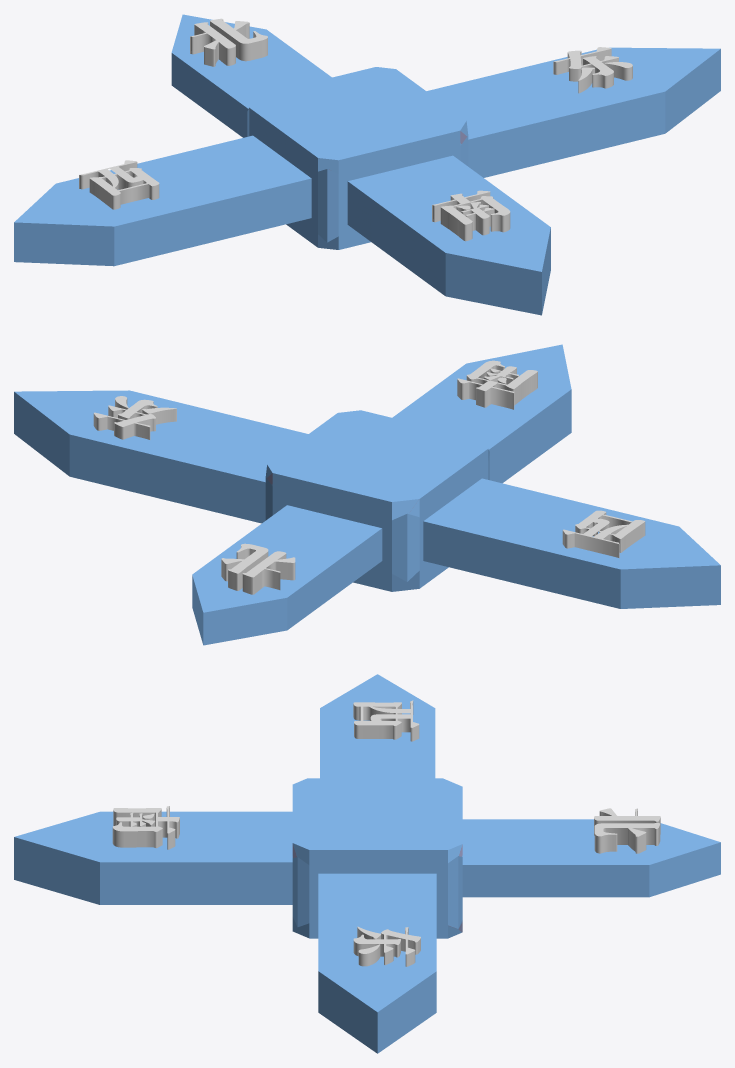
File: dir.glb
3 views of the same model, one above another, from view 1: azimuth 30°, elevation 25°; view 2: azimuth 150°, elevation 25°; view 3: azimuth 270°, elevation 25° (orthographic).
Visible parts, largest first — view 1: 立方体, 文本, 文本.001, 文本.002, 文本.003; view 2: 立方体, 文本.001, 文本, 文本.002, 文本.003; view 3: 立方体, 文本.001, 文本, 文本.002, 文本.003.
Boxes of the visible parts, x1,y1,x2,y2 form: 立方体: (14,14,720,315); 文本: (190,18,267,66); 文本.001: (432,190,510,241); 文本.002: (79,160,159,209); 文本.003: (553,47,632,93); 立方体: (14,344,720,645); 文本.001: (457,360,537,409); 文本: (221,543,295,594); 文本.002: (562,510,645,558); 文本.003: (93,396,176,439); 立方体: (14,674,720,1053); 文本.001: (112,806,179,849); 文本: (594,808,660,853); 文本.002: (353,700,419,741); 文本.003: (353,926,420,966).
Bounding box in the file's own units: 9.45 × 1.15 × 8.32.
Materials: 1 (1 with a texture image).
